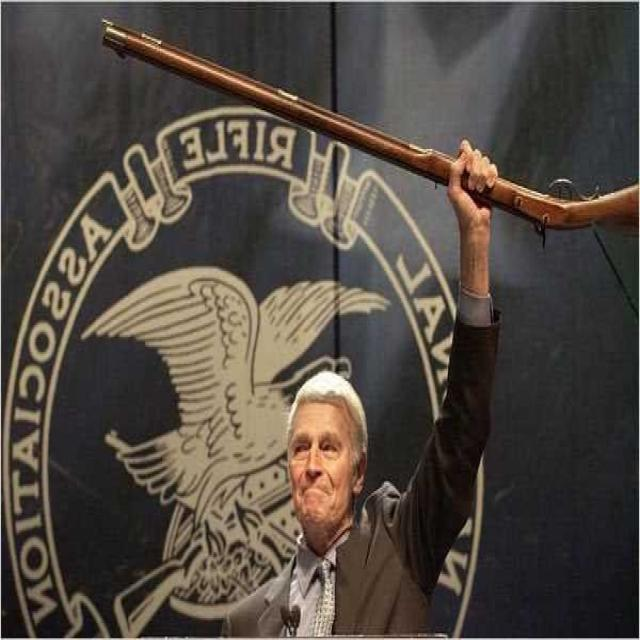heavyweapon: (89, 8, 640, 284)
